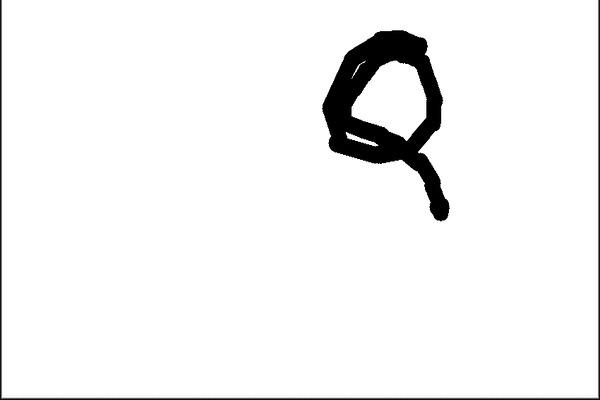Q: (314, 18, 460, 226)
